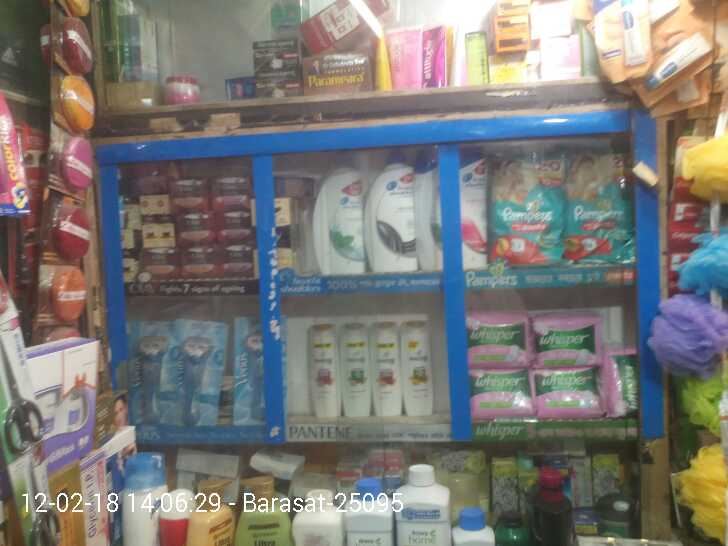venus: (128, 322, 176, 427), (178, 322, 226, 425), (238, 319, 284, 425)
